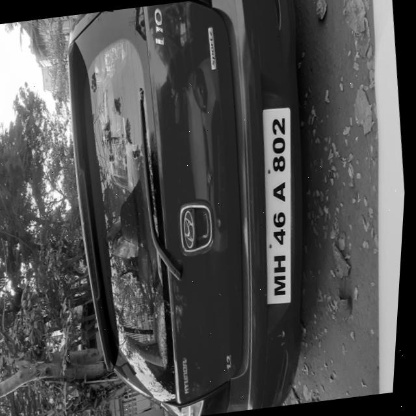car: (0, 237, 198, 416)
